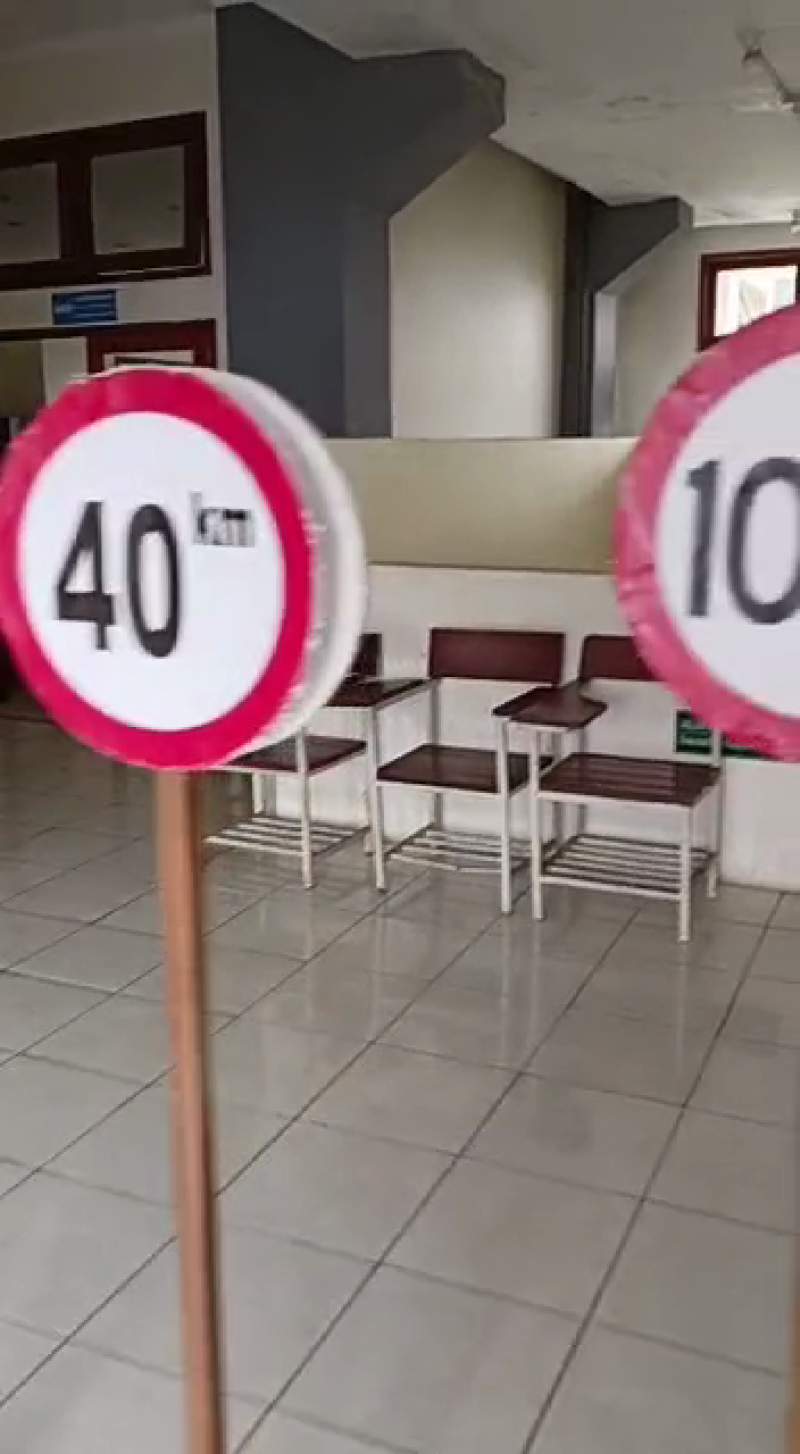batas maksimal 40kmperjam: (1, 341, 336, 803)
